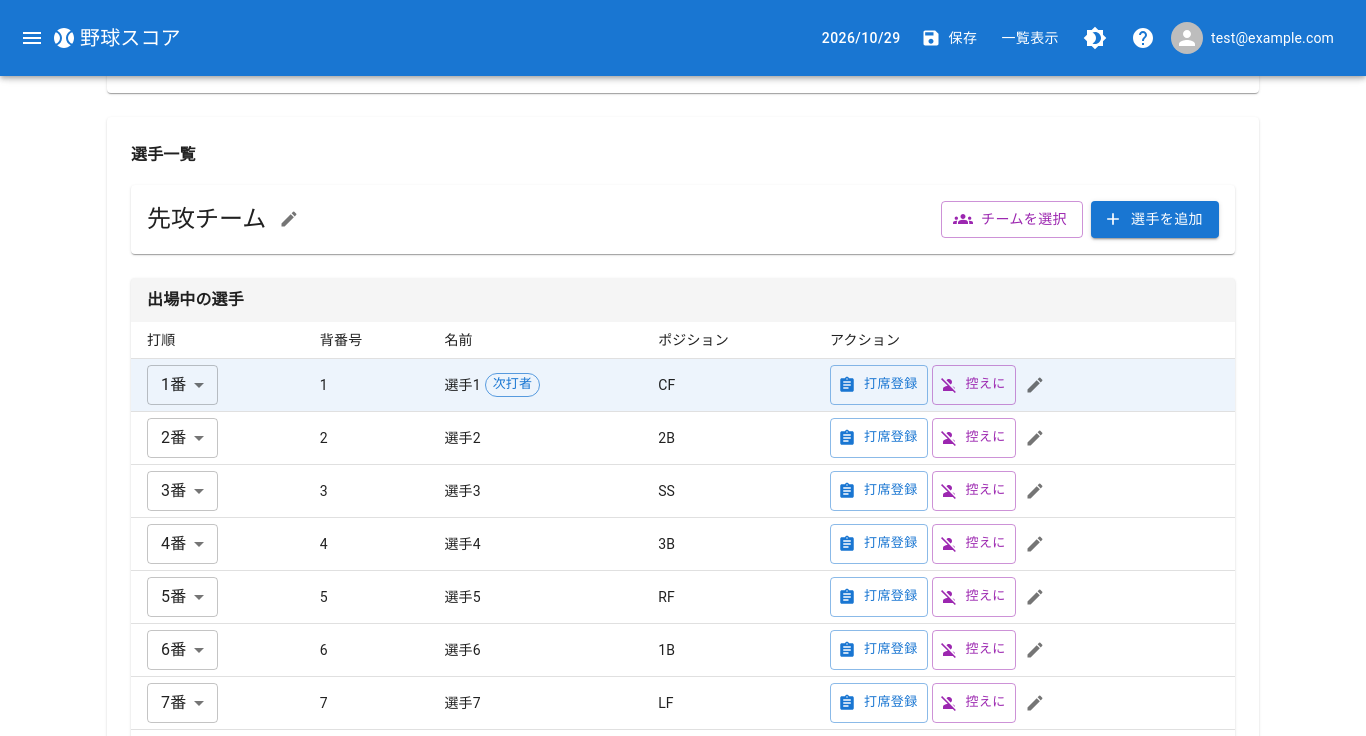
MainApp - 試合データの損失防止 › 確認ダイアログで「新しい試合を開始」を選ぶと打席記録がリセットされる
(page scrolled)
Click the button "打席登録" in the row of "選手1". click: [879, 384]
box: [830, 364, 928, 404]
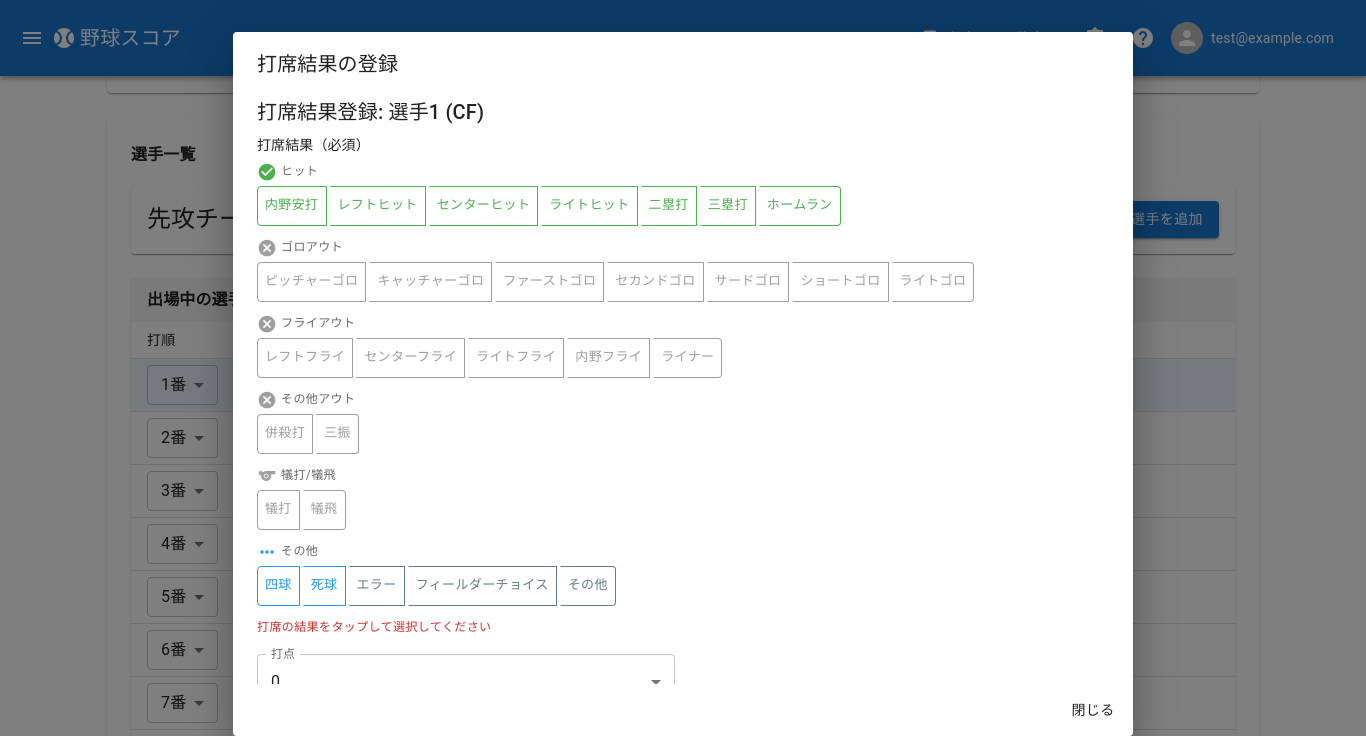
Now the heading "打席結果登録: 選手1 (CF)" is shown, box [257, 100, 484, 124]
Click the button "内野安打". click: [292, 206]
box: [257, 186, 326, 226]
(page scrolled)
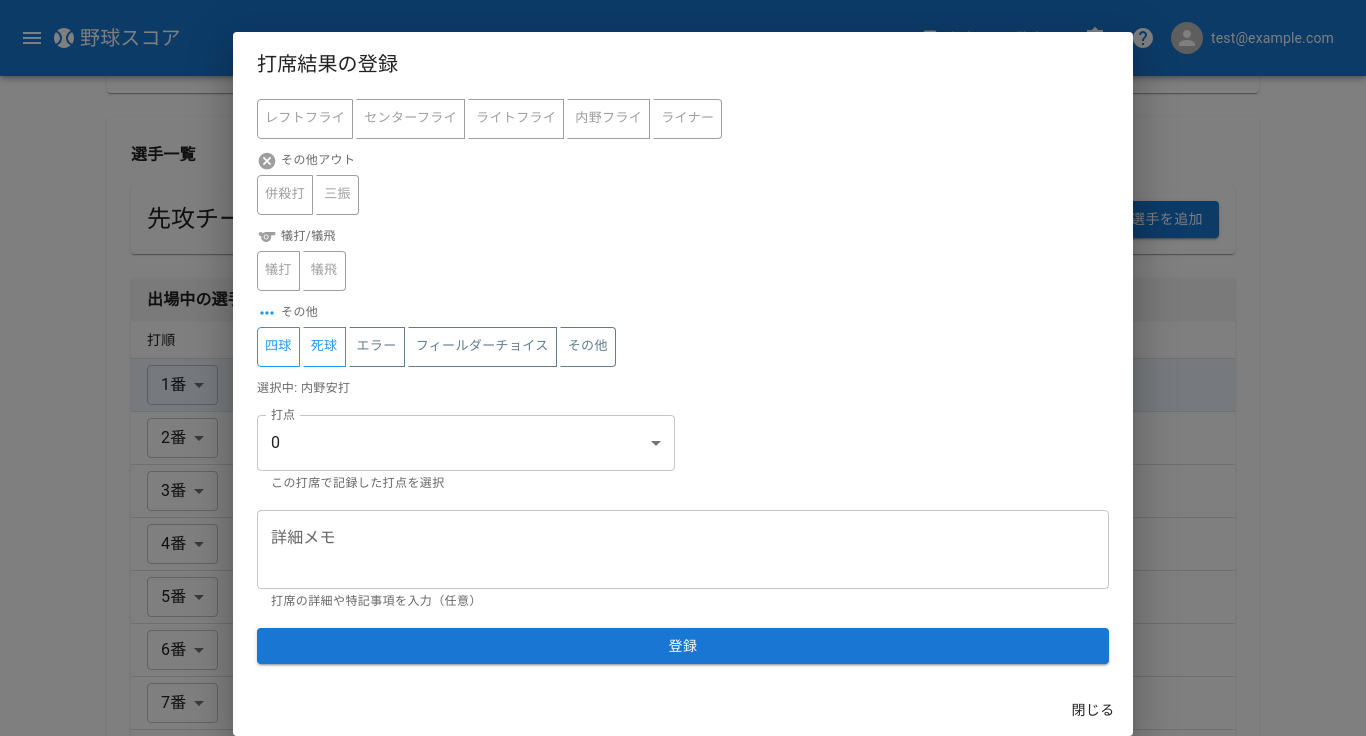
Click the button "登録". click: [683, 646]
box: [257, 628, 1109, 664]
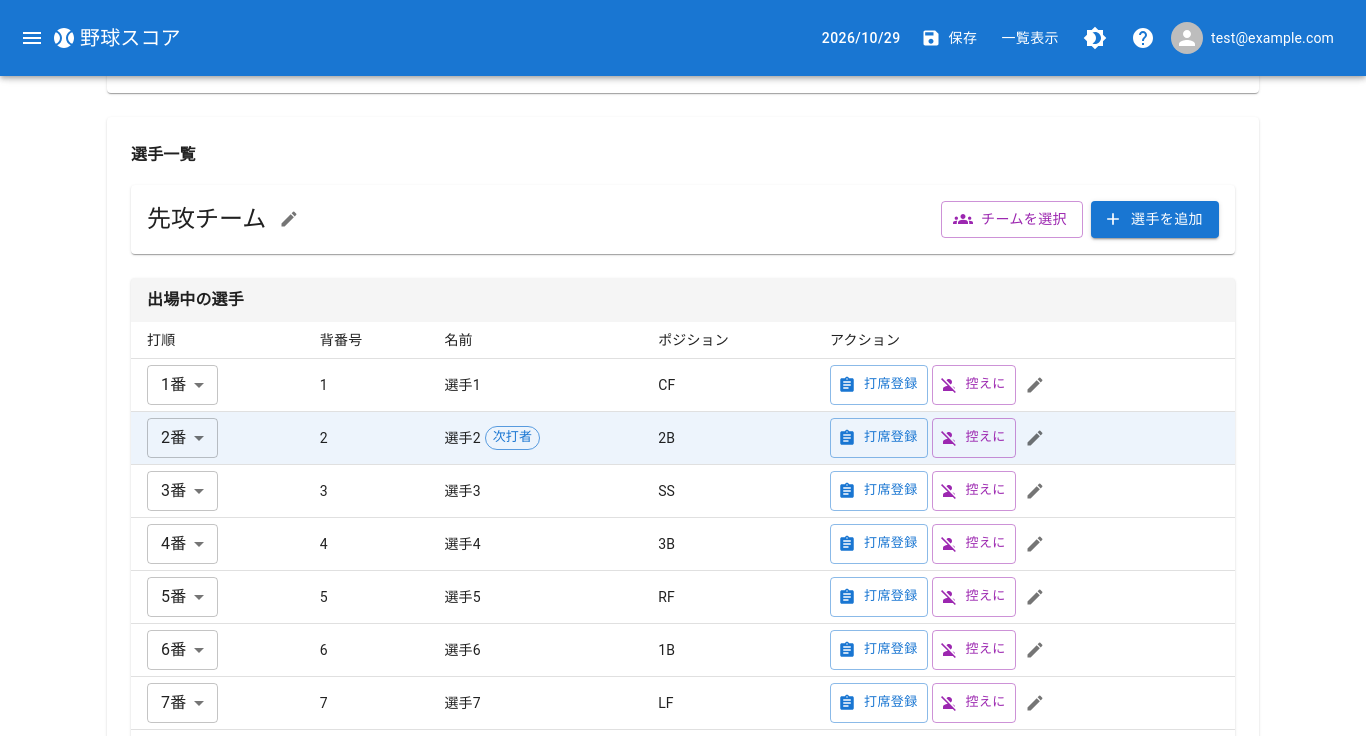
Click the button named "メニューを開く". click: [32, 38]
box: [12, 18, 52, 58]
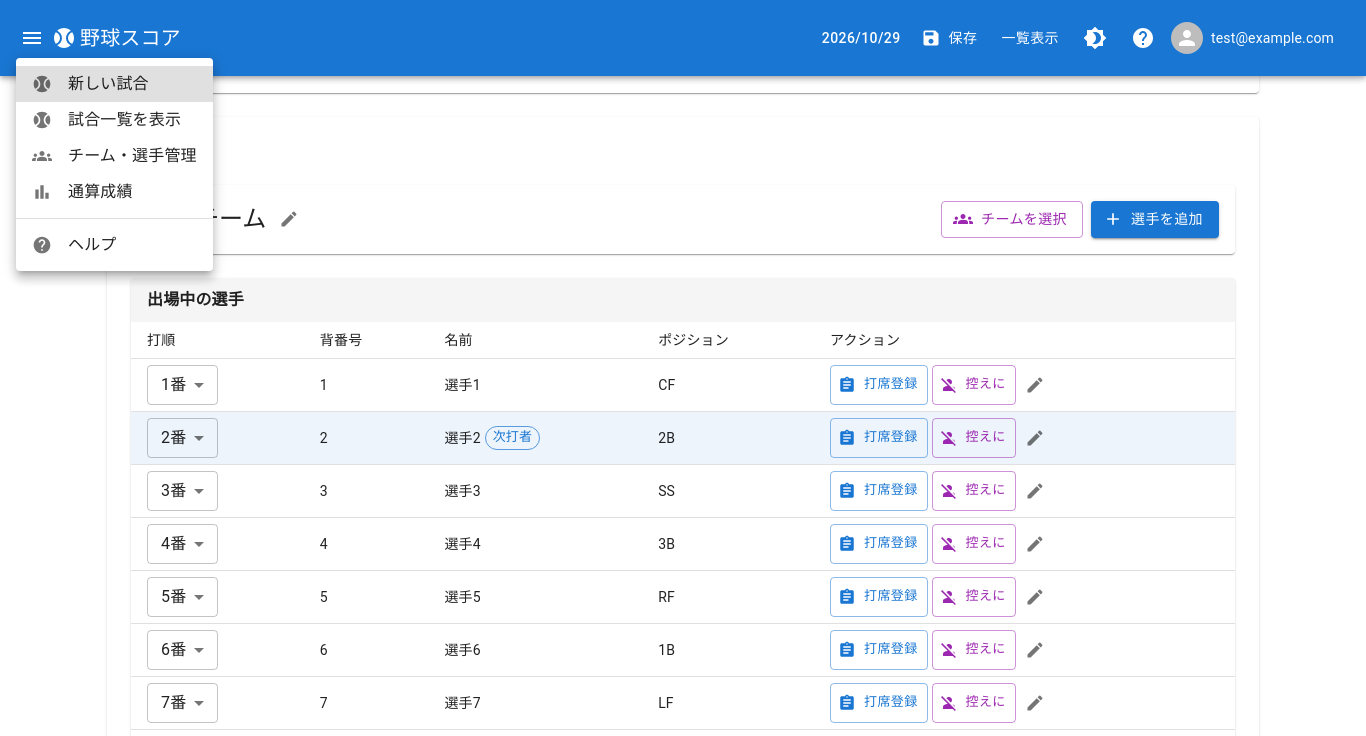
Click the menu item "新しい試合". click: [114, 84]
box: [16, 66, 213, 102]
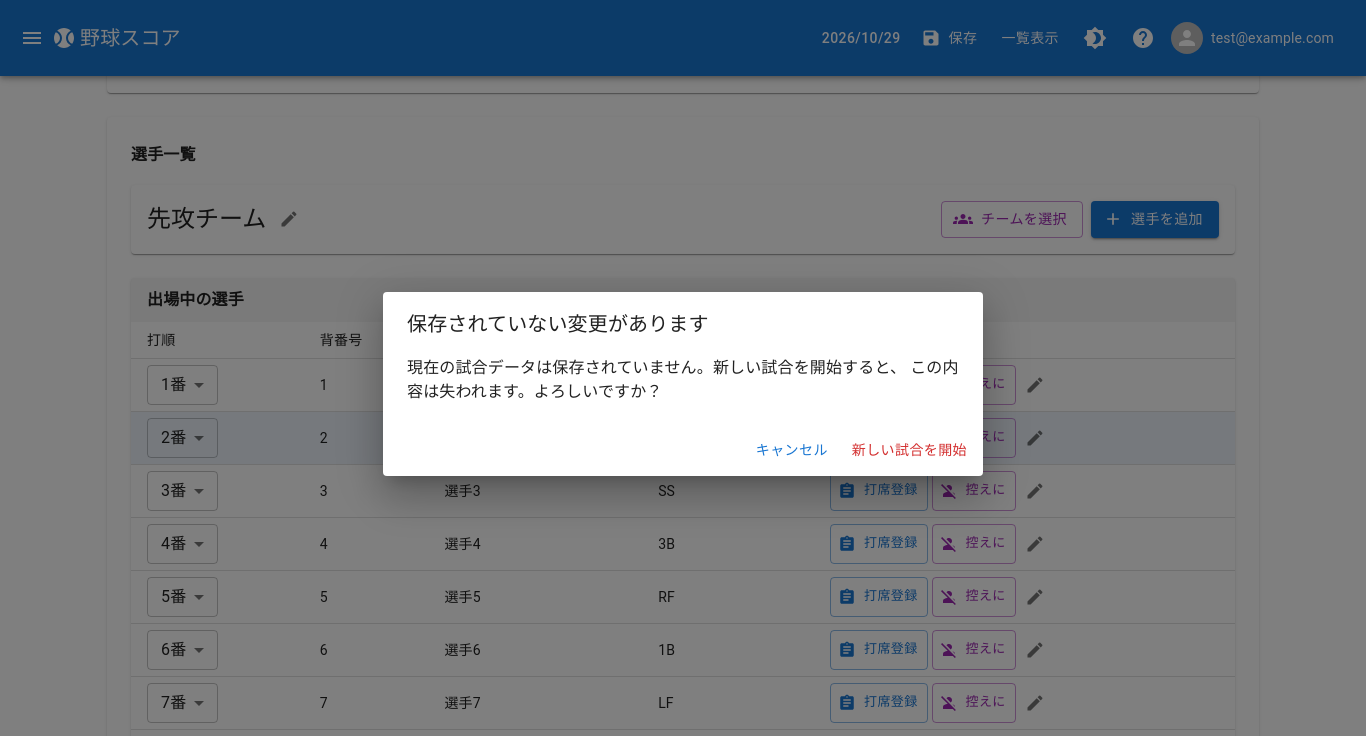
Now the heading "保存されていない変更があります" is shown, box [407, 312, 709, 336]
Click the button "新しい試合を開始". click: [909, 450]
box: [844, 432, 975, 468]
(page scrolled)
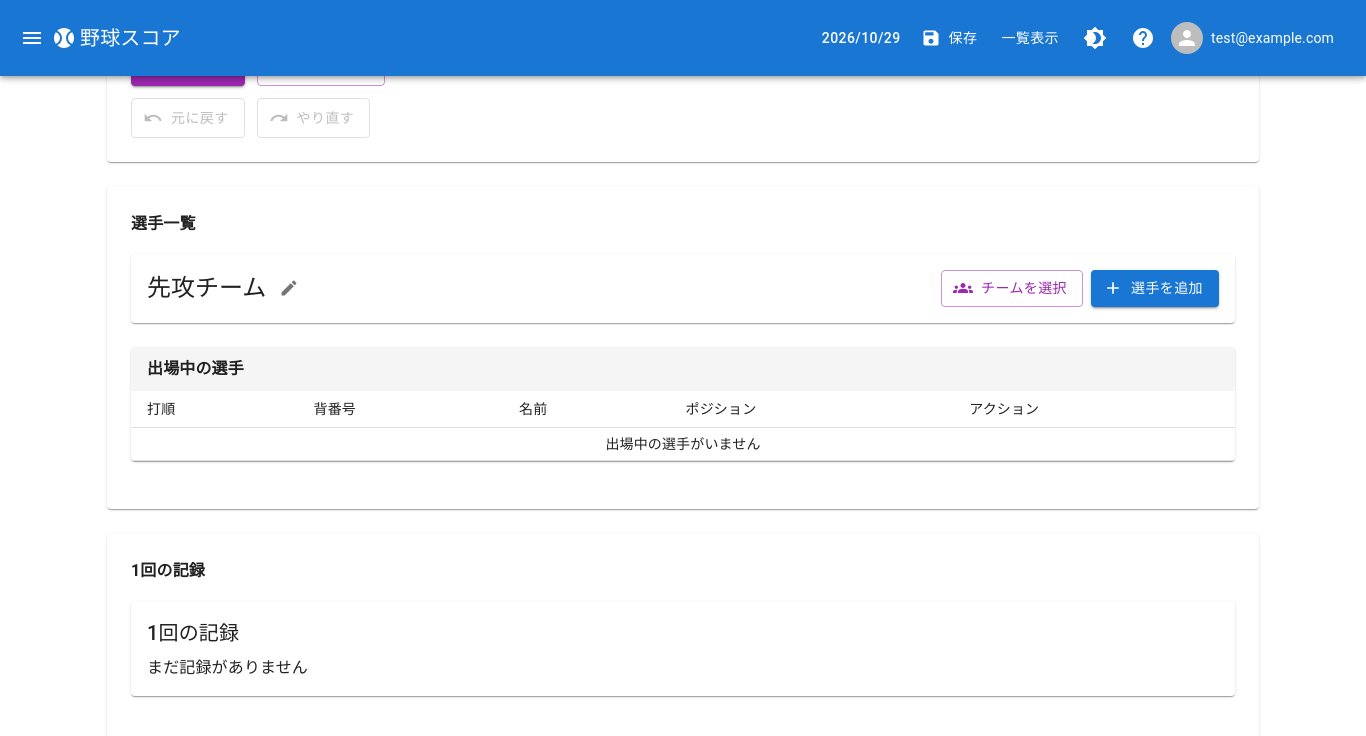
Now the heading "保存されていない変更があります" is gone
